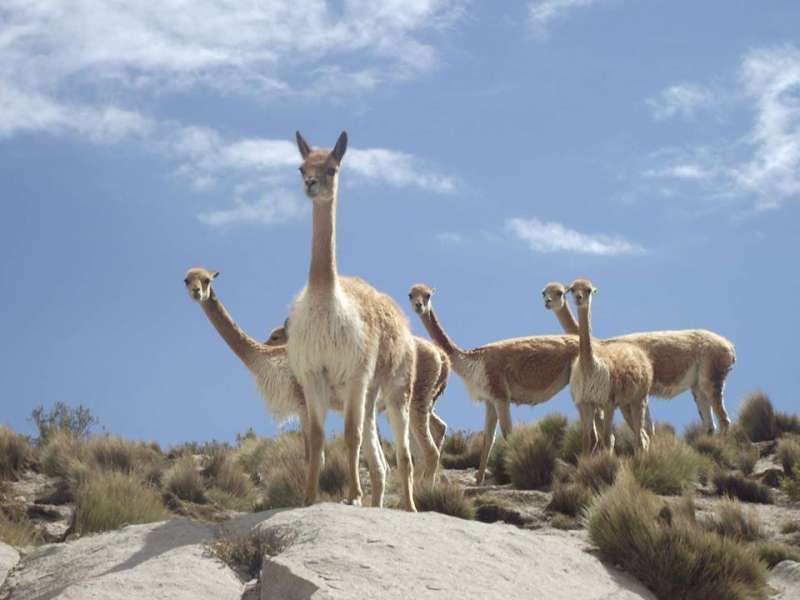eye: (416, 290, 447, 306), (325, 163, 344, 183), (407, 288, 418, 306)
mouth: (190, 281, 204, 304), (569, 296, 594, 308), (538, 299, 558, 311), (309, 184, 320, 199)
